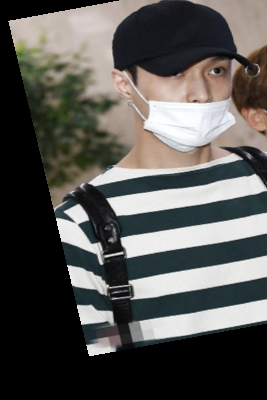mask_weared_incorrect: (100, 1, 262, 155)
